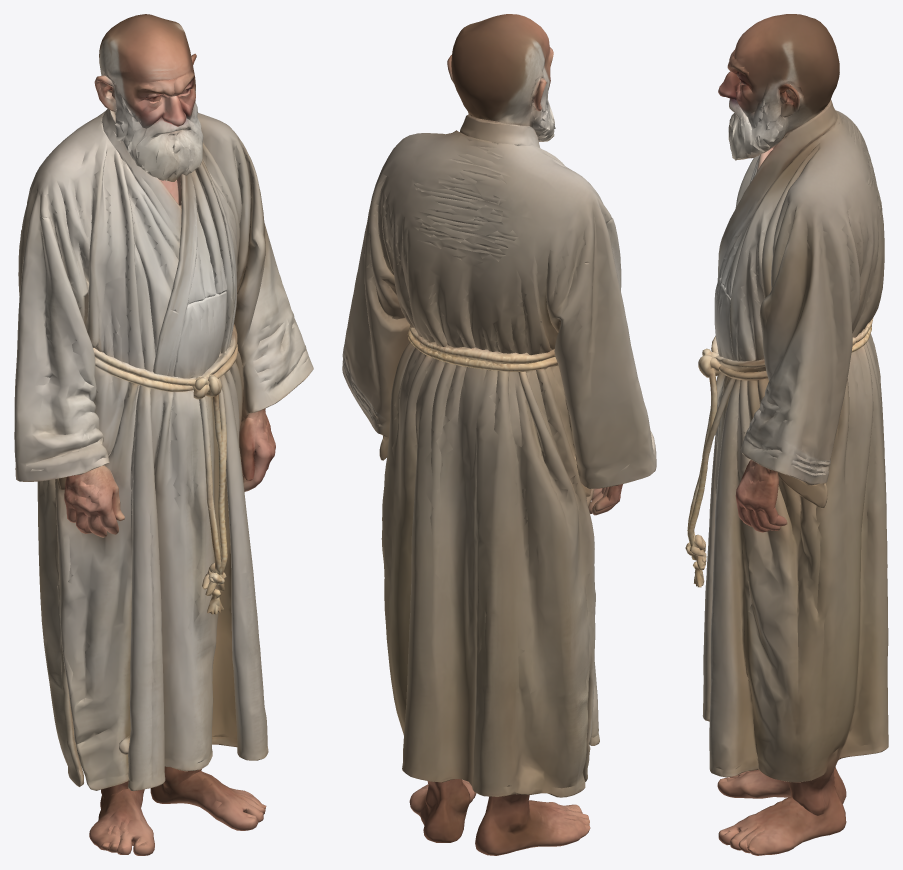
Rendered from crowd_old_man_rodin_source.glb.
3 renders of one model, left to right at view 1: azimuth 30°, elevation 25°; view 2: azimuth 150°, elevation 25°; view 3: azimuth 270°, elevation 25°, orthographic. The views are drawn at different scales.
Visible parts, largest first — view 1: model; view 2: model; view 3: model.
Part boxes in pixels (bbox=[...]): model: bbox=[14, 14, 313, 855]; model: bbox=[342, 14, 656, 855]; model: bbox=[685, 14, 888, 855].
Bounding box in the file's own units: 0.7387 × 1.9 × 0.4399.
1 material, 1 textured.
